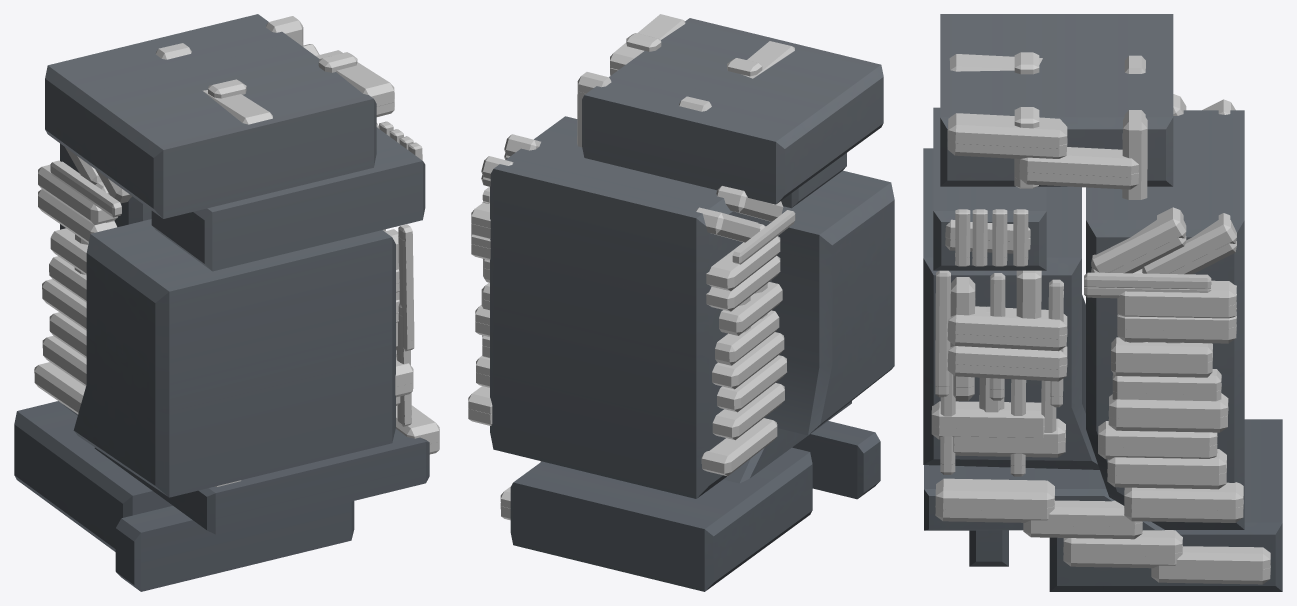
The model's file is muroPrueba.fbx.
The picture shows the model from 3 angles, left to right: view 1: azimuth 30°, elevation 25°; view 2: azimuth 150°, elevation 25°; view 3: azimuth 270°, elevation 25°; orthographic projection. The views are drawn at different scales.
Parts seen in each view (by area): view 1: muro10; view 2: muro10; view 3: muro10.
Part boxes in pixels (x1,y1,x2,y2): muro10: (14, 14, 439, 591); muro10: (468, 14, 894, 591); muro10: (923, 14, 1282, 591).
Size of the model in its own units: 3215 by 4483 by 3099.
